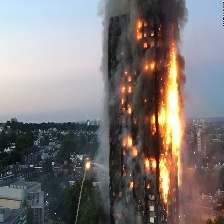fire: (161, 42, 188, 210), (136, 17, 158, 73), (122, 73, 134, 114), (124, 134, 140, 157), (142, 157, 158, 170), (129, 180, 138, 190)
smoke: (98, 3, 126, 215), (140, 1, 197, 30)
